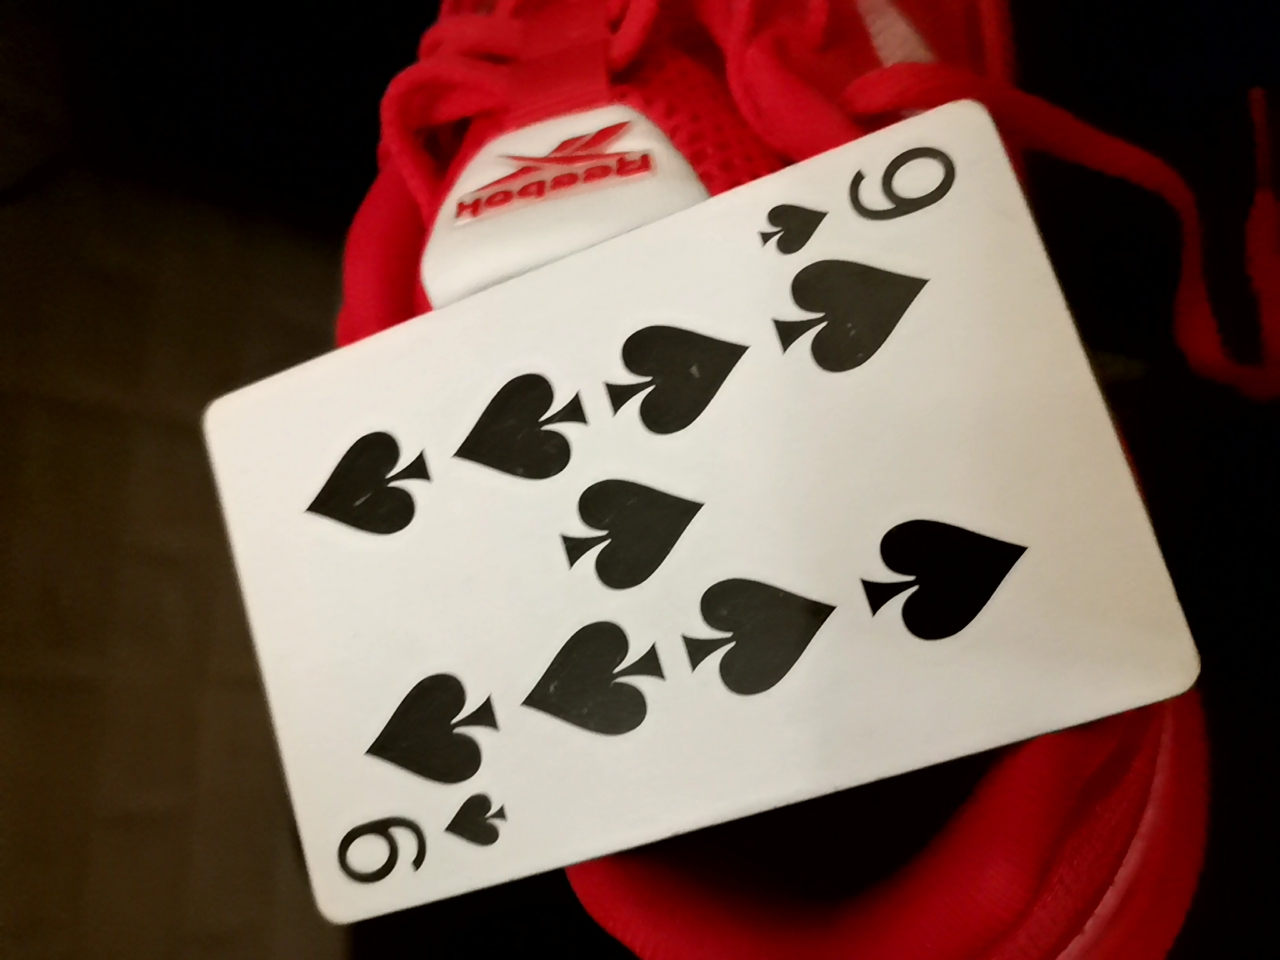ht 9: (212, 135, 1195, 905)
